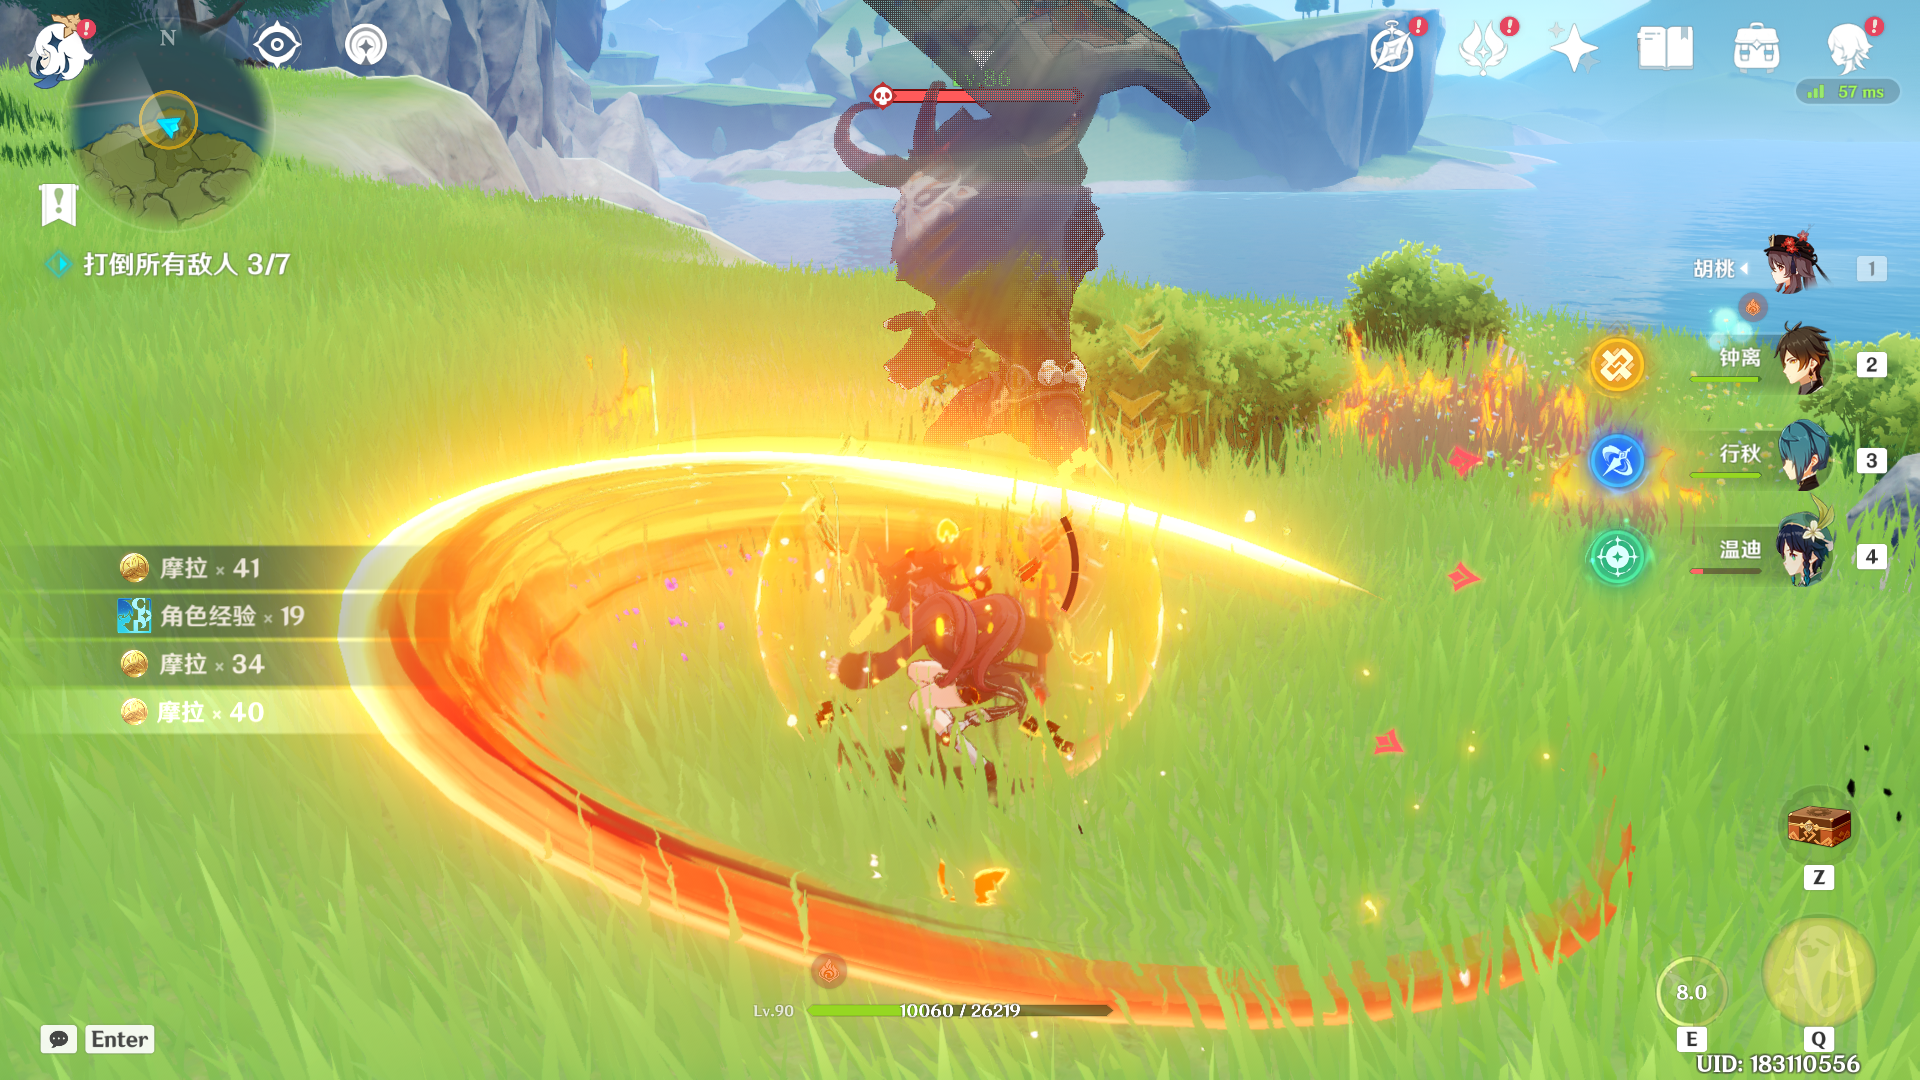bighili: (787, 9, 1254, 524)
character: (807, 505, 1109, 799)
